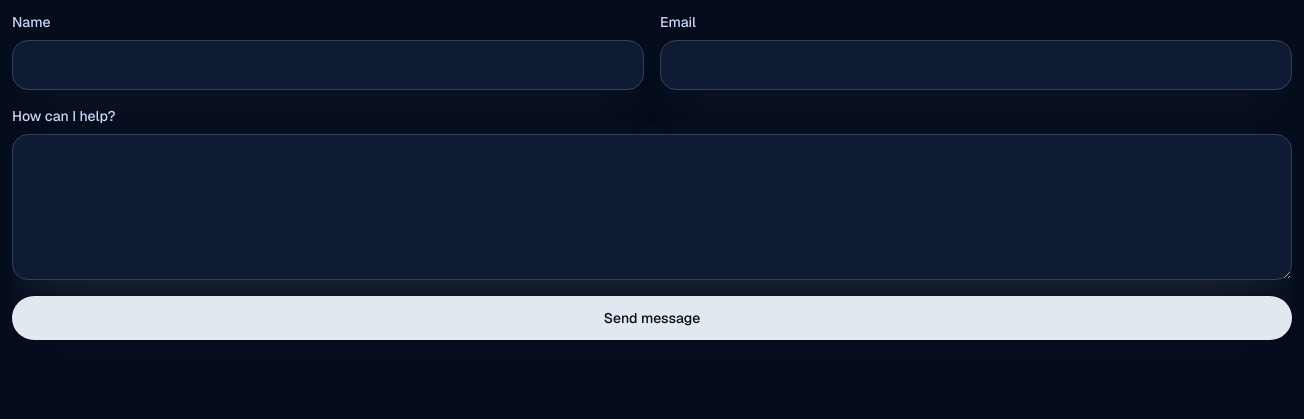
Scenario: ContactForm › validates message minimum length
Type "John Doe" into the field labelled "Name" at coordinates (328, 65), box [12,40,644,90]
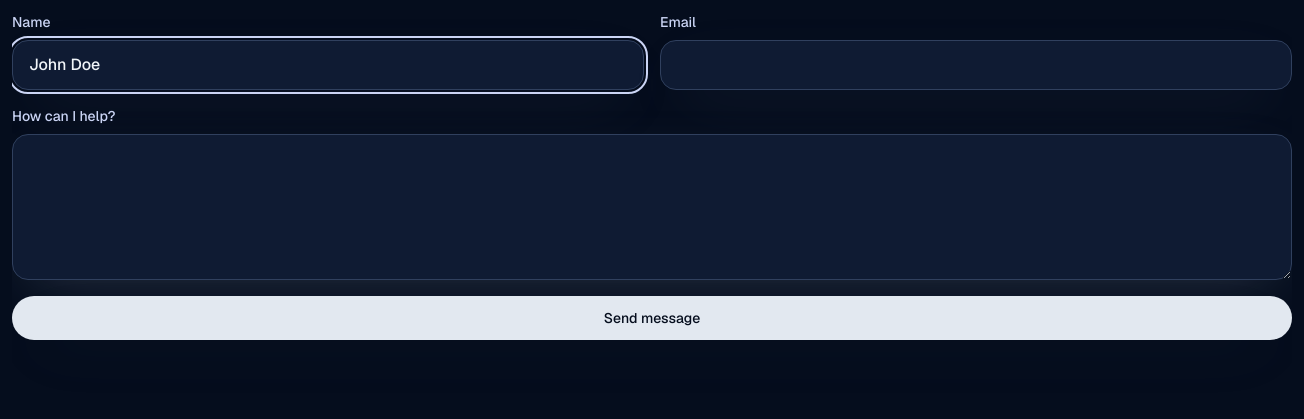
Type "john@example.com" into the field labelled "Email" at coordinates (976, 65), box [660,40,1292,90]
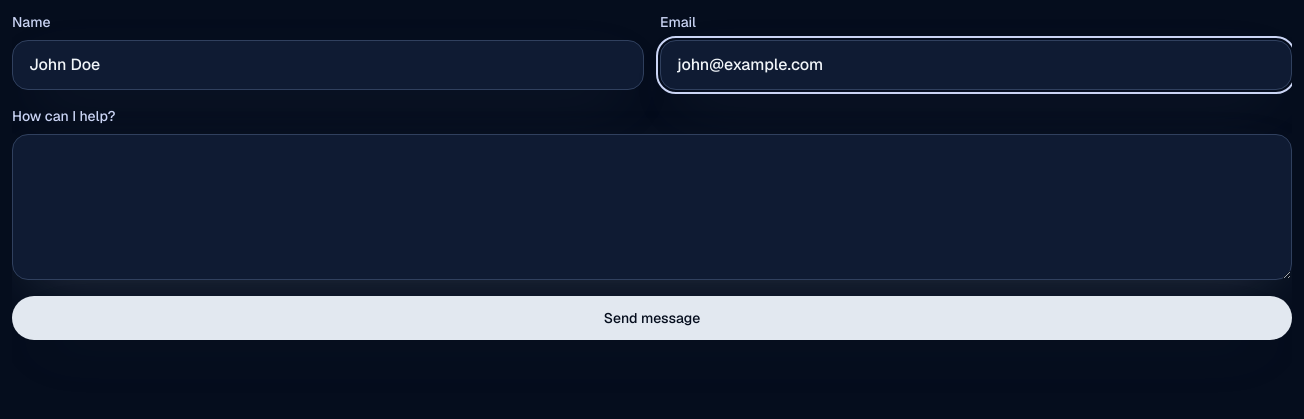
Type "Hi" into the text box labelled "How can I help?" at coordinates (652, 207), box [12,134,1292,280]
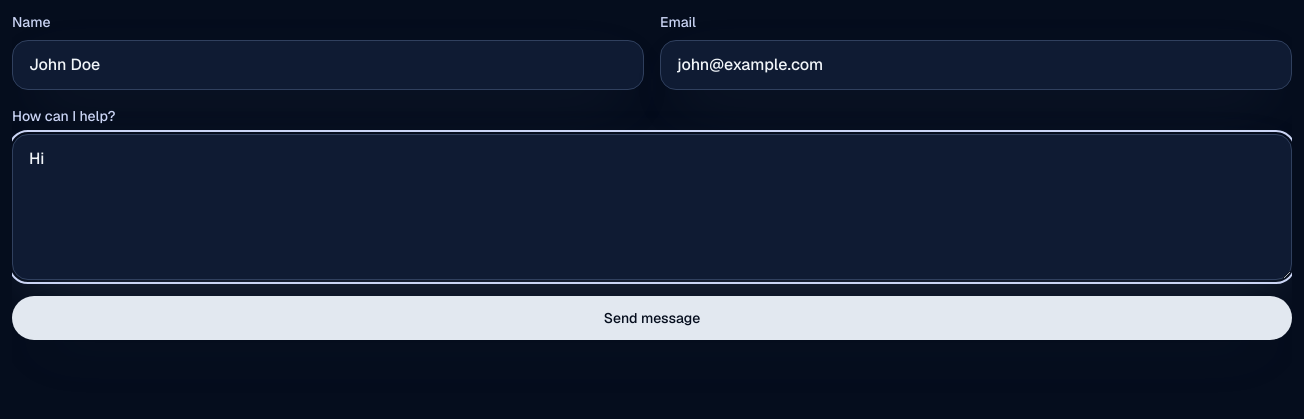
Click the button "Send message" at coordinates (652, 318), box [12,296,1292,340]
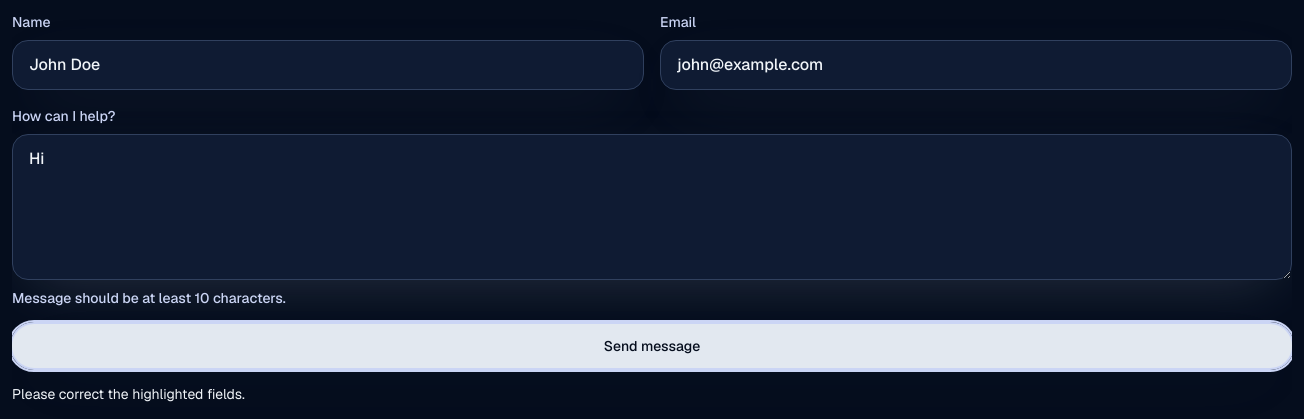
Now the text "Message should be at least 10 characters." is shown, box [12,289,286,307]
